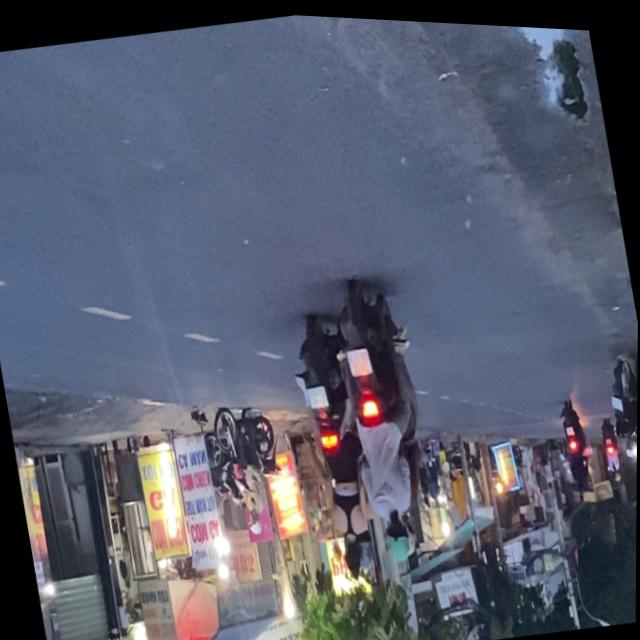helmet: (381, 509, 415, 560), (354, 528, 377, 570)
licenseplate: (325, 268, 447, 566), (287, 308, 386, 583)
motorcyclist: (338, 529, 366, 577)
nohelmet: (346, 345, 373, 375), (306, 382, 328, 407)
